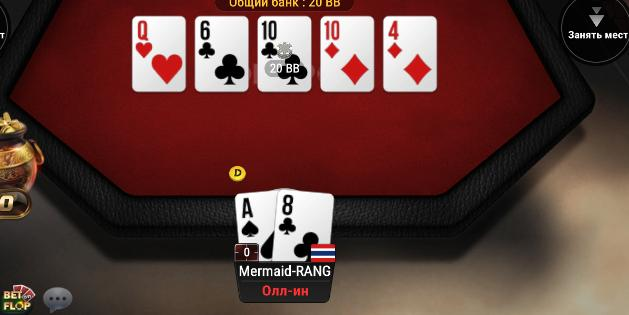10c: (259, 17, 311, 91)
10d: (321, 17, 374, 90)
4c: (384, 18, 436, 90)
6c: (196, 17, 248, 90)
8c: (275, 189, 333, 262)
As: (235, 192, 275, 262)
Qh: (132, 17, 185, 90)
